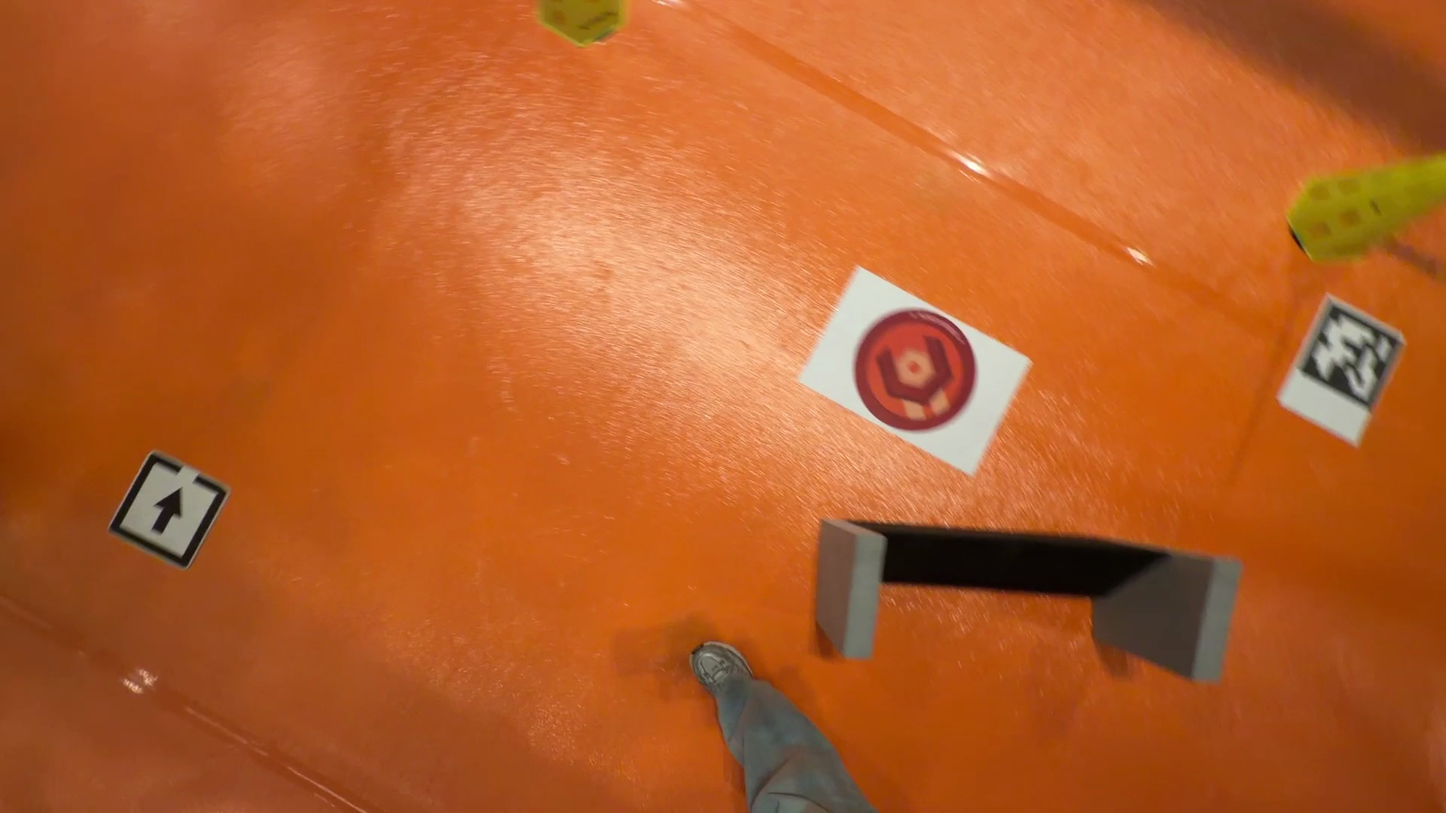landing_pad: (852, 308, 978, 432)
